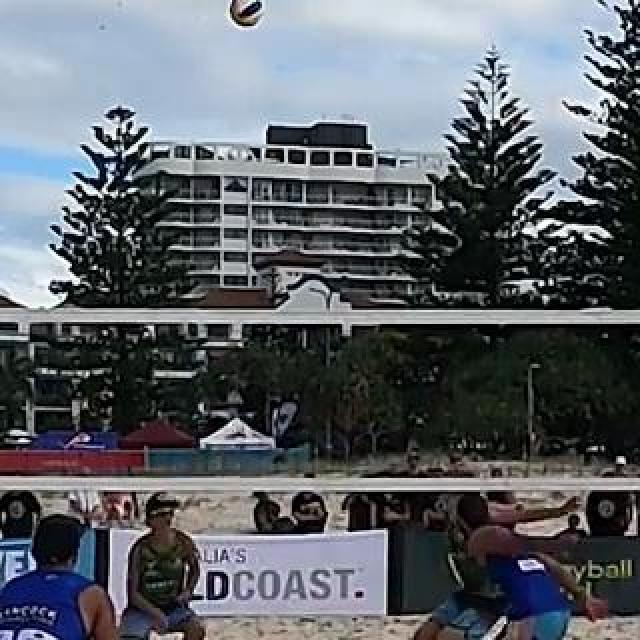volleyball: (227, 0, 263, 28)
